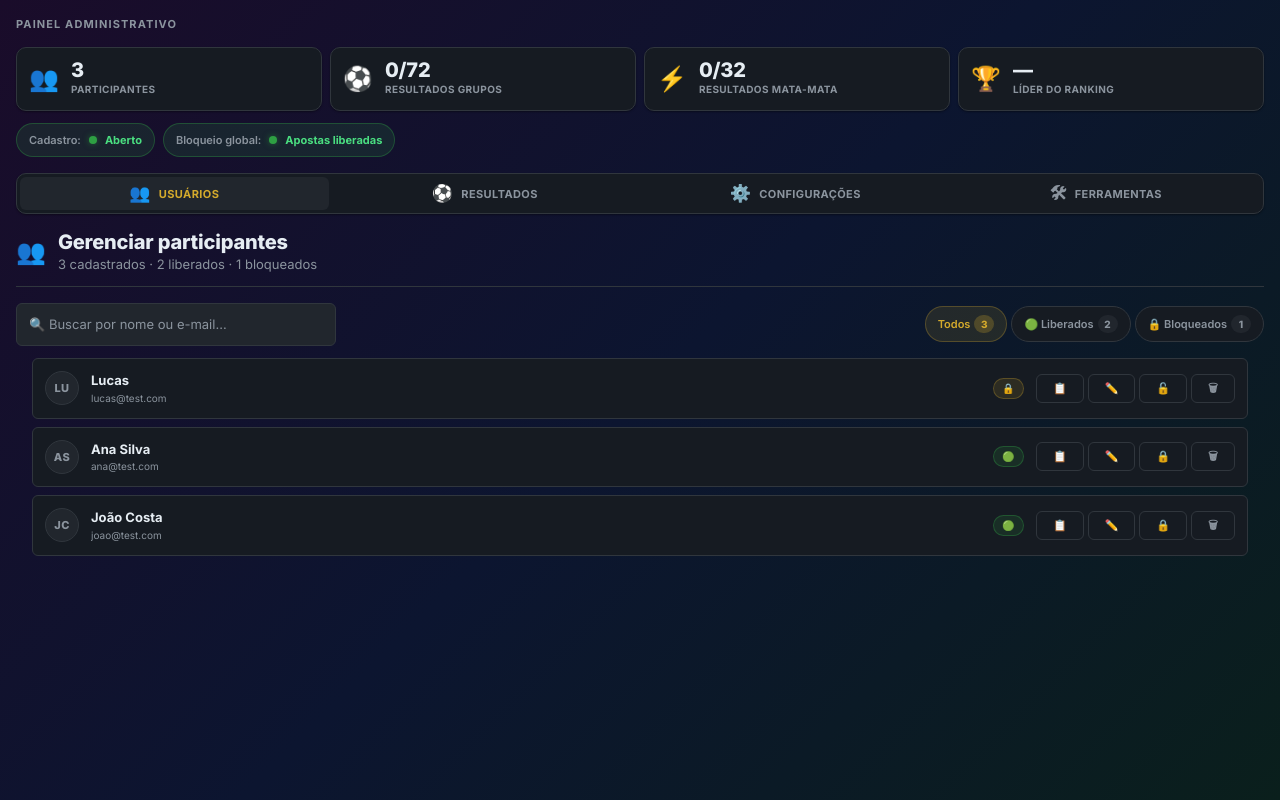
Test case: AdminScreen — Usuários tab › opens bet history modal on view click
The image size is (1280, 800).
Click the button named "Ver apostas".
click(1060, 388)  # box x1=1036 y1=374 x2=1084 y2=403
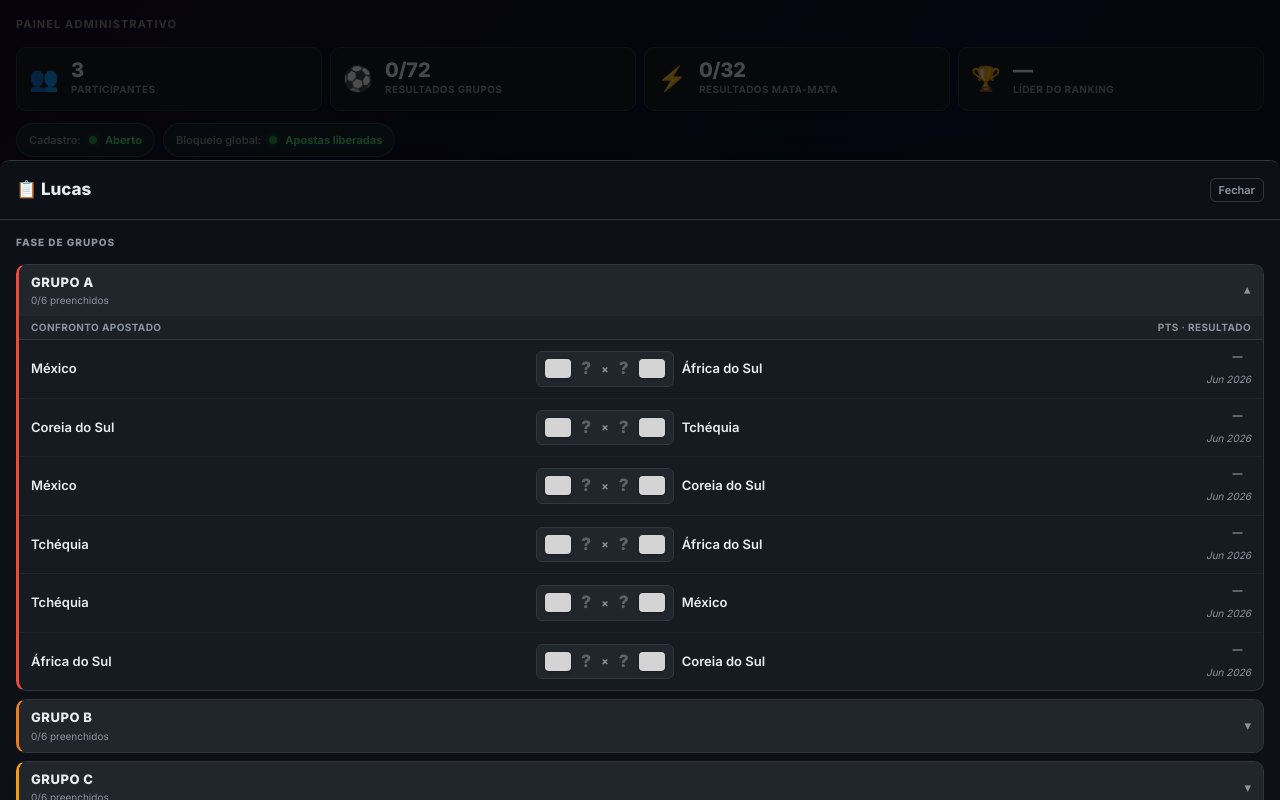
Expected: the dialog is shown
